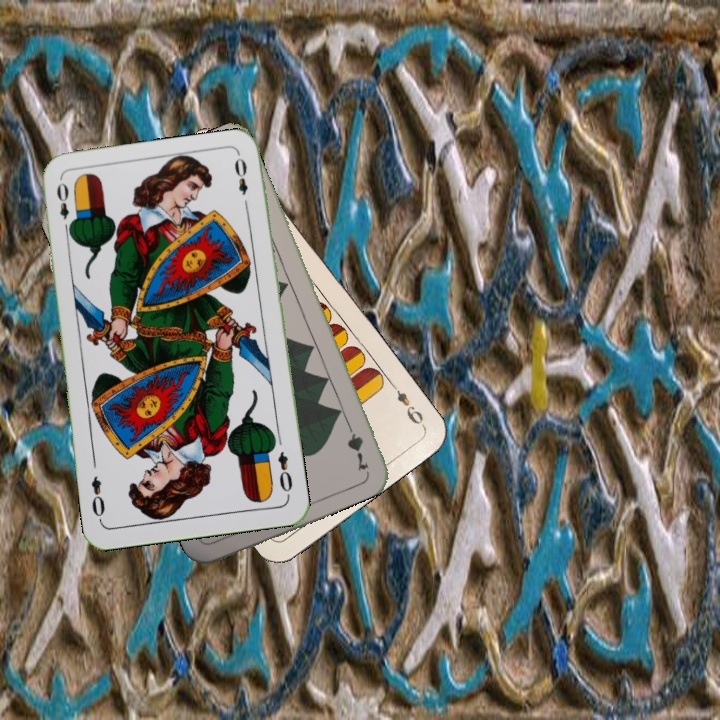E9: (386, 379, 427, 430)
EO: (52, 178, 76, 236), (274, 447, 296, 495)
G7: (341, 414, 372, 472)
